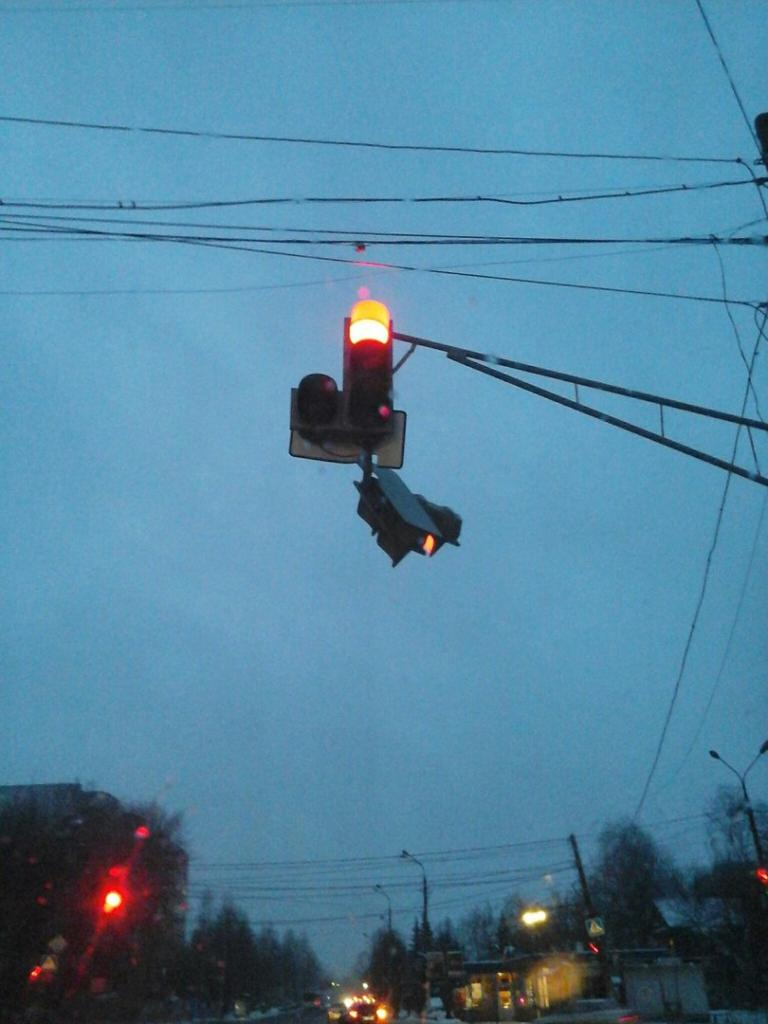off traffic light: (351, 468, 464, 567)
traffic light: (289, 296, 394, 439)
